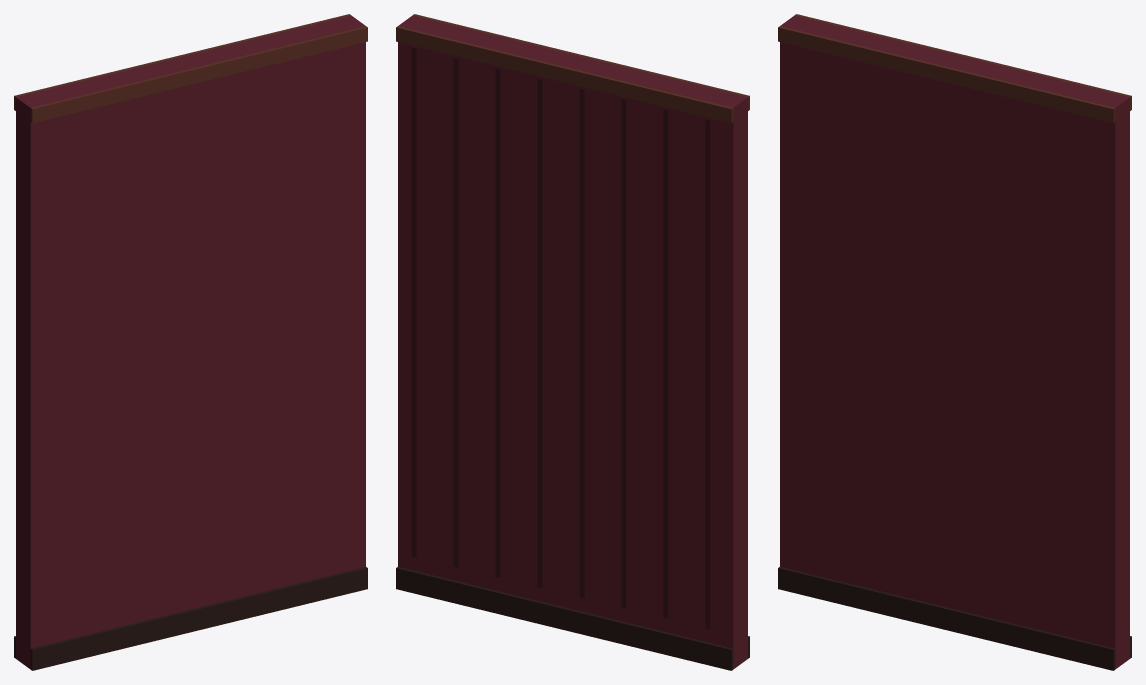
File: SM_ENV_ParedeLisa.fbx
3 views of the same model, side by side, from view 1: azimuth 30°, elevation 25°; view 2: azimuth 150°, elevation 25°; view 3: azimuth 330°, elevation 25° (orthographic).
Parts seen in each view (by area): view 1: SM_ENV_ParedeLisa; view 2: SM_ENV_ParedeLisa; view 3: SM_ENV_ParedeLisa.
Part boxes in pixels (bbox=[...]): SM_ENV_ParedeLisa: bbox=[14, 14, 367, 670]; SM_ENV_ParedeLisa: bbox=[396, 14, 749, 670]; SM_ENV_ParedeLisa: bbox=[778, 14, 1131, 670].
Bounding box in the file's own units: 2 × 3.2 × 0.19.
